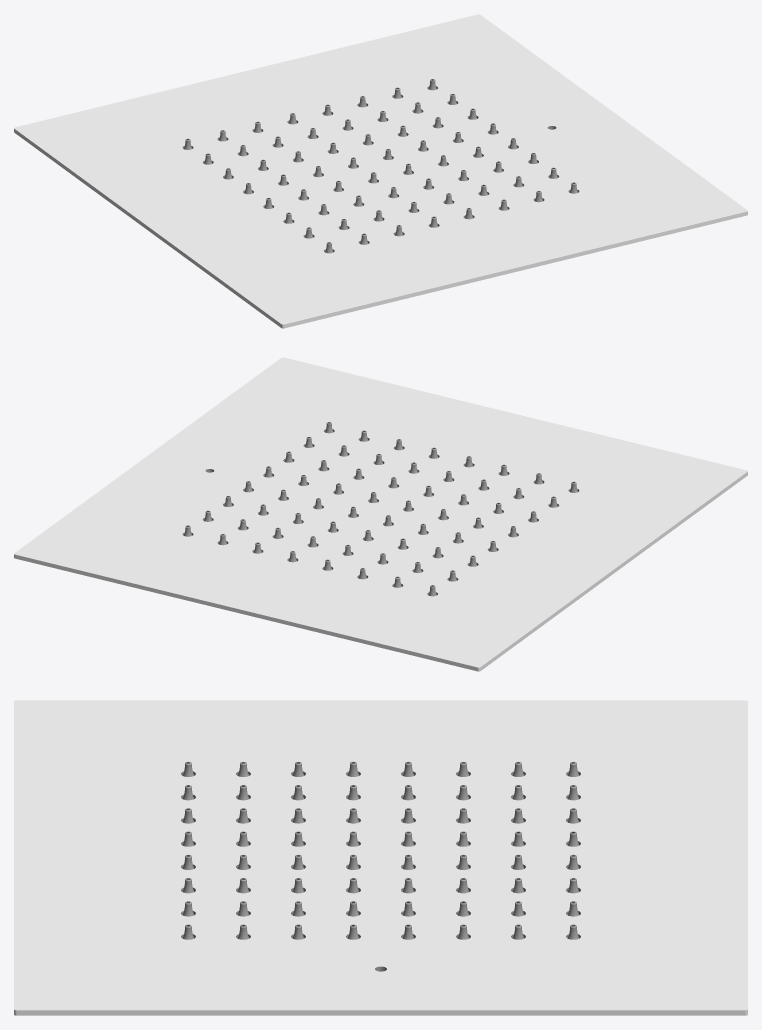
The model's file is 1_01_Ceiling Shower_S4000.glb.
3 renders of one model, top to bottom at view 1: azimuth 30°, elevation 25°; view 2: azimuth 150°, elevation 25°; view 3: azimuth 270°, elevation 25°, orthographic. The views are drawn at different scales.
Parts seen in each view (by area): view 1: 1_01_Ceiling Shower_S4000.001; view 2: 1_01_Ceiling Shower_S4000.001; view 3: 1_01_Ceiling Shower_S4000.001.
Part boxes in pixels (<box>): 1_01_Ceiling Shower_S4000.001: <box>14,14,747,328</box>; 1_01_Ceiling Shower_S4000.001: <box>14,357,747,671</box>; 1_01_Ceiling Shower_S4000.001: <box>14,700,747,1015</box>.
Bounding box in the file's own units: 0.303 × 0.00745 × 0.303.
1 material, 1 textured.
